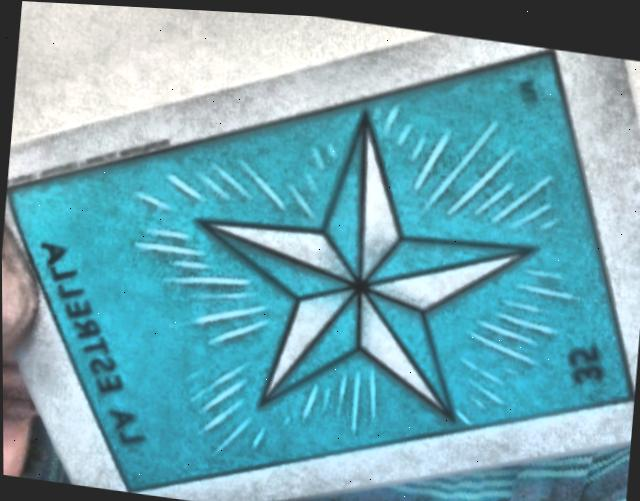La Estrella: (6, 42, 633, 485)
